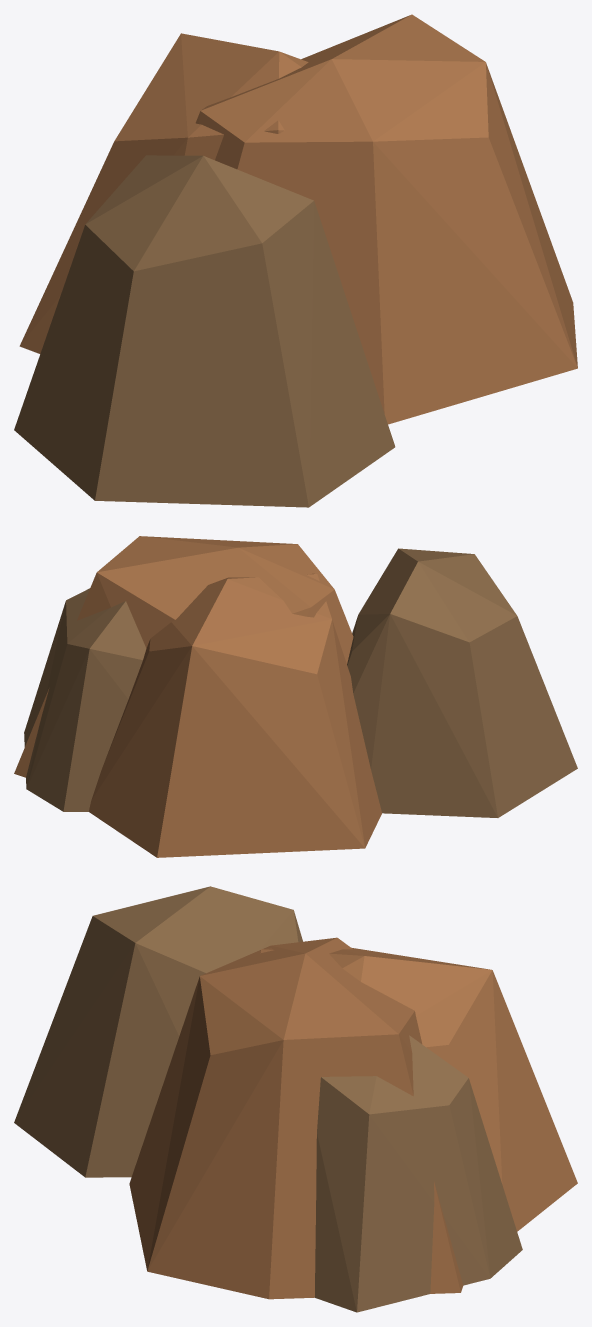
File: env_rock_a.glb
3 renders of one model, top to bottom at view 1: azimuth 30°, elevation 25°; view 2: azimuth 150°, elevation 25°; view 3: azimuth 270°, elevation 25°, orthographic. The views are drawn at different scales.
Parts seen in each view (by area): view 1: rock-col; view 2: rock-col; view 3: rock-col.
Boxes of the visible parts, <box> form: rock-col: <box>14,14,577,507</box>; rock-col: <box>14,536,577,857</box>; rock-col: <box>14,886,577,1312</box>.
Size of the model in its own units: 11.02 by 5.02 by 10.25.
Materials: 1 (1 with a texture image).
